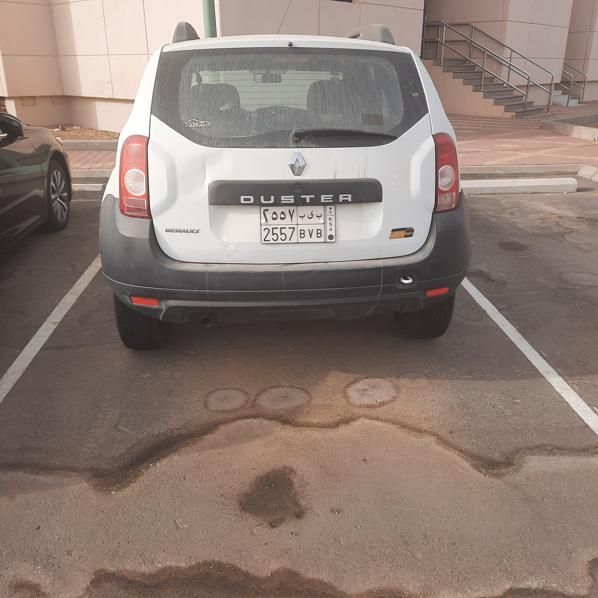numberplate: (260, 204, 336, 244)
